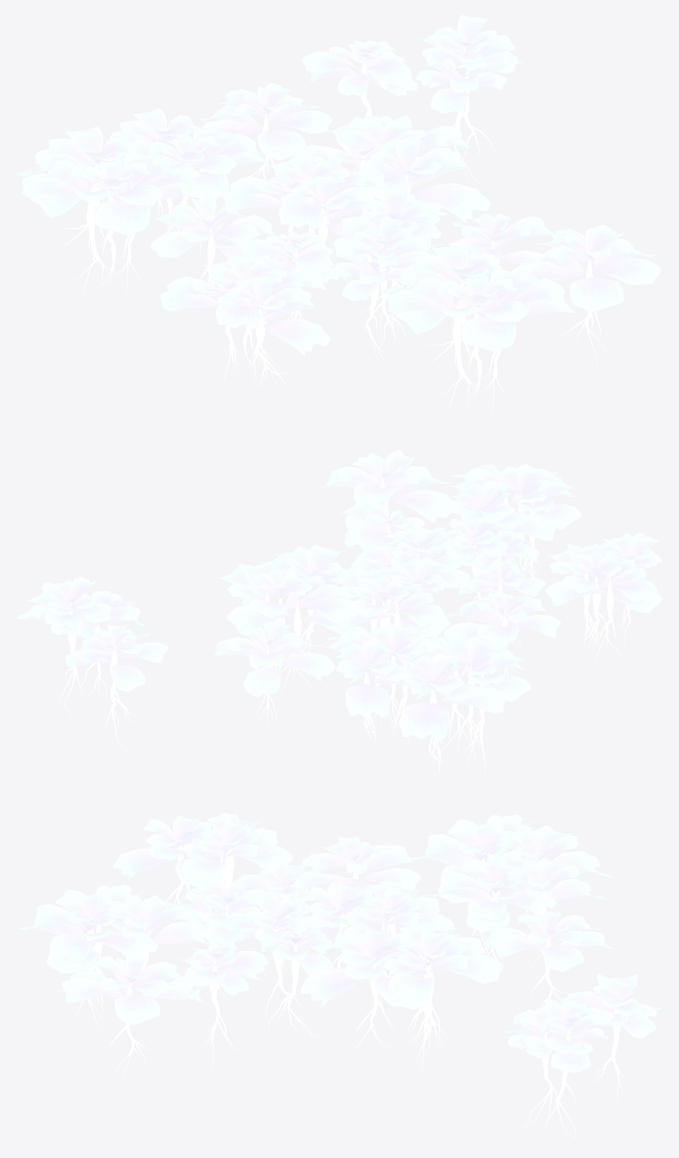
The picture shows the model from 3 angles, top to bottom: view 1: azimuth 30°, elevation 25°; view 2: azimuth 150°, elevation 25°; view 3: azimuth 270°, elevation 25°; orthographic projection. The views are drawn at different scales.
Visible parts, largest first — view 1: SM_FH_WaterLettuce_Clump_01_LOD0; view 2: SM_FH_WaterLettuce_Clump_01_LOD0; view 3: SM_FH_WaterLettuce_Clump_01_LOD0.
Part boxes in pixels (bbox=[...]): SM_FH_WaterLettuce_Clump_01_LOD0: bbox=[16, 15, 661, 417]; SM_FH_WaterLettuce_Clump_01_LOD0: bbox=[16, 450, 662, 777]; SM_FH_WaterLettuce_Clump_01_LOD0: bbox=[17, 813, 662, 1141].
Bounding box in the file's own units: 2.99 × 0.8178 × 3.41.
Materials: 1 (1 with a texture image).
